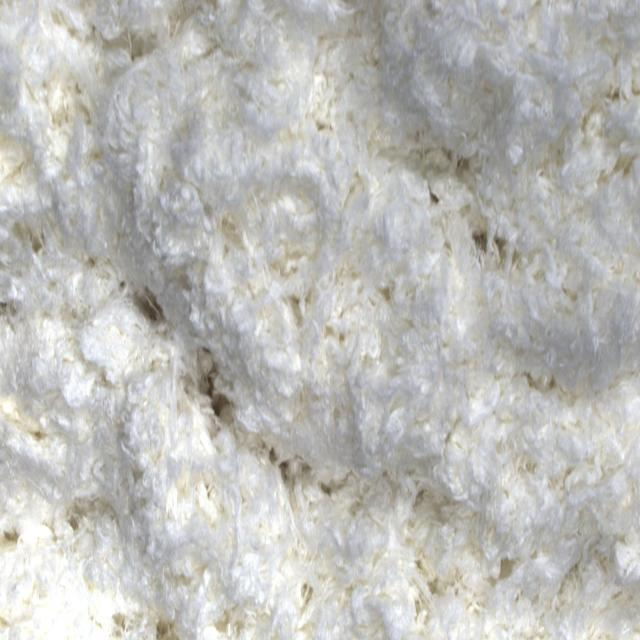dust: (125, 287, 174, 336), (200, 364, 237, 425)
